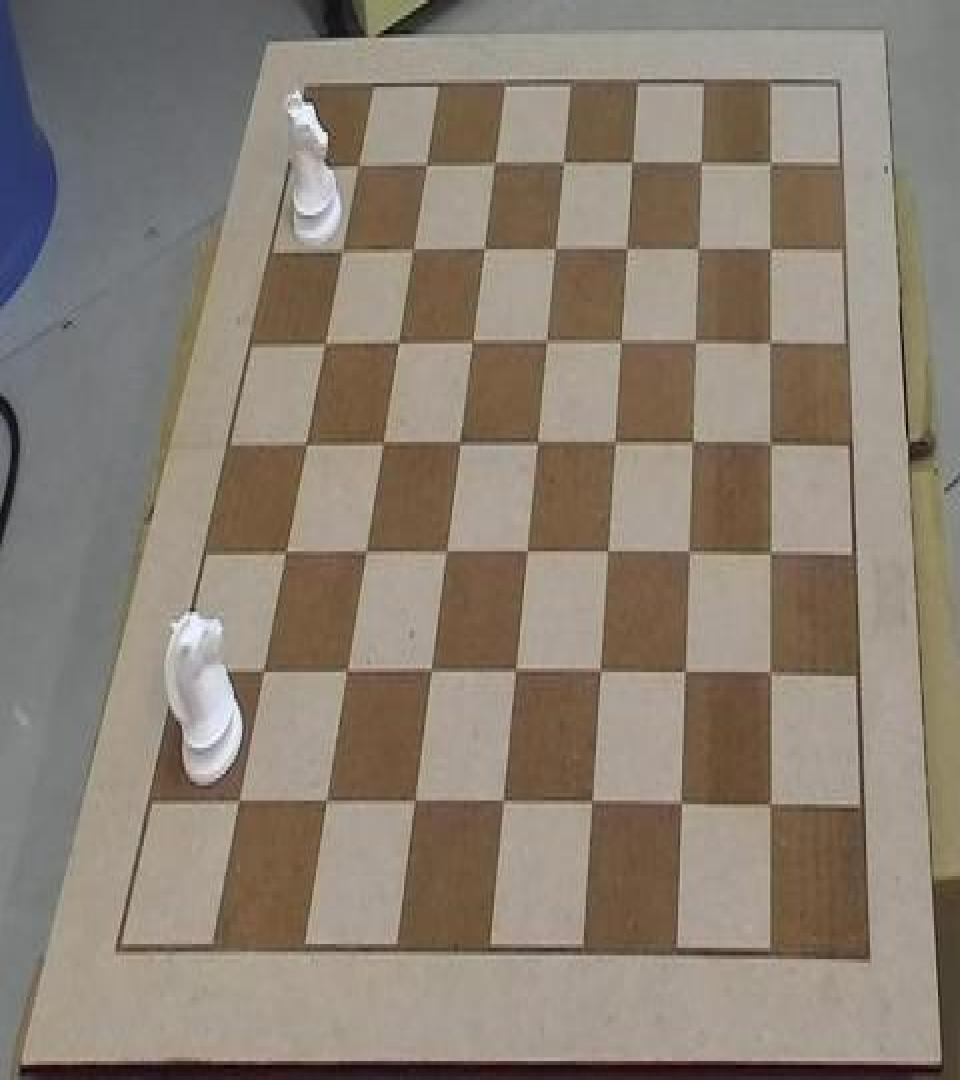xcorner: (761, 144, 781, 182), (691, 144, 711, 182), (622, 144, 642, 182), (552, 144, 572, 182), (482, 144, 502, 182), (412, 142, 432, 180), (342, 142, 362, 180), (761, 230, 781, 268), (689, 230, 709, 268), (617, 230, 637, 268), (544, 230, 564, 268), (472, 230, 492, 268), (399, 228, 419, 266), (327, 228, 347, 266), (762, 324, 782, 362), (687, 324, 707, 362), (611, 322, 631, 360), (536, 322, 556, 360), (461, 322, 481, 360), (385, 322, 405, 360), (309, 322, 329, 360), (762, 424, 782, 462), (684, 424, 704, 462), (606, 424, 626, 462), (527, 424, 547, 462), (448, 424, 468, 462), (370, 424, 390, 462), (291, 424, 311, 462), (763, 536, 783, 574), (681, 536, 701, 574), (599, 536, 619, 574), (517, 536, 537, 574), (435, 534, 455, 572), (353, 534, 373, 572), (271, 534, 291, 572), (764, 657, 784, 695), (678, 657, 698, 695), (592, 655, 612, 693), (507, 655, 527, 693), (421, 655, 441, 693), (335, 655, 355, 693), (249, 655, 269, 693), (764, 787, 784, 825), (674, 787, 694, 825), (585, 787, 605, 825), (495, 787, 515, 825), (405, 787, 425, 825), (315, 787, 335, 825), (224, 787, 244, 825)
